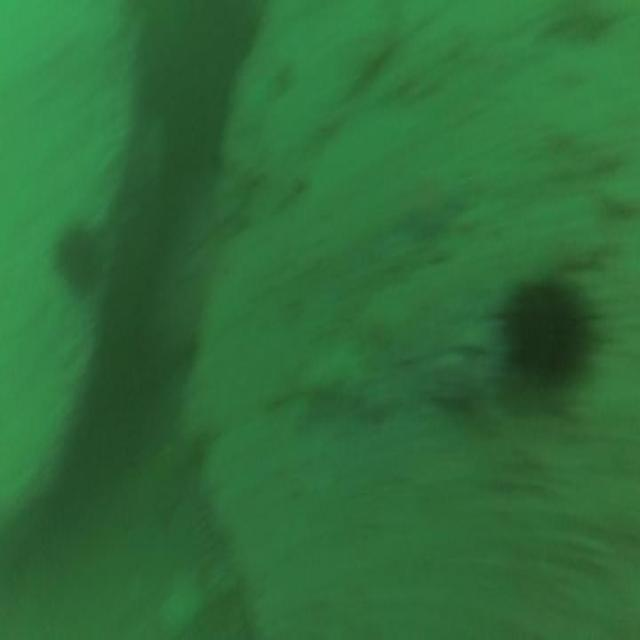echinus: (491, 256, 608, 414)
starfish: (52, 212, 106, 298)
